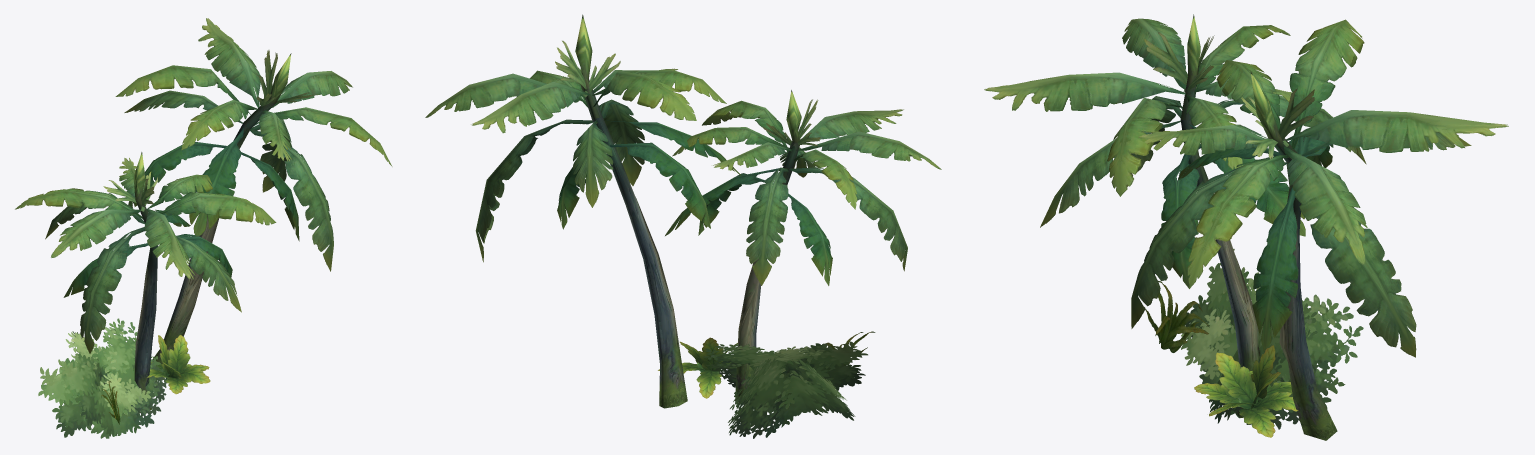
Rendered from shu_15.FBX.
3 views of the same model, side by side, from view 1: azimuth 30°, elevation 25°; view 2: azimuth 150°, elevation 25°; view 3: azimuth 270°, elevation 25° (orthographic). The views are drawn at different scales.
Parts seen in each view (by area): view 1: shu_15; view 2: shu_15; view 3: shu_15.
Part boxes in pixels (left/top/right/bottom): shu_15: left=15, top=18, right=392, bottom=438; shu_15: left=425, top=14, right=941, bottom=438; shu_15: left=984, top=14, right=1508, bottom=440.
Bounding box in the file's own units: 437 × 367 × 378.
